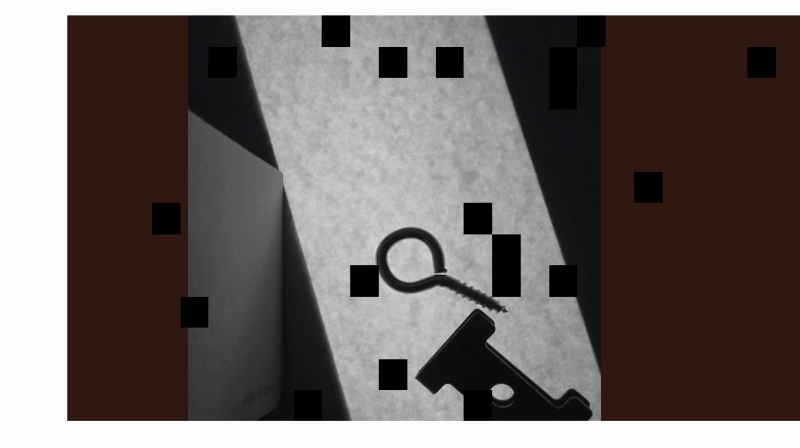O001: (373, 224, 510, 313)
O002: (413, 306, 594, 447)
S001: (447, 437, 519, 447)
